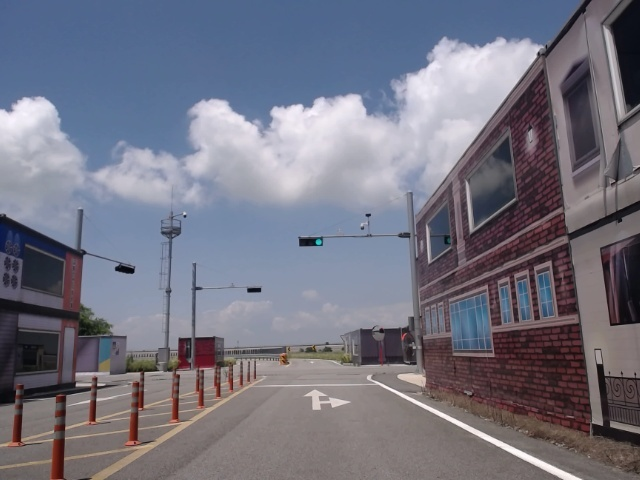green_3: (299, 238, 324, 246)
